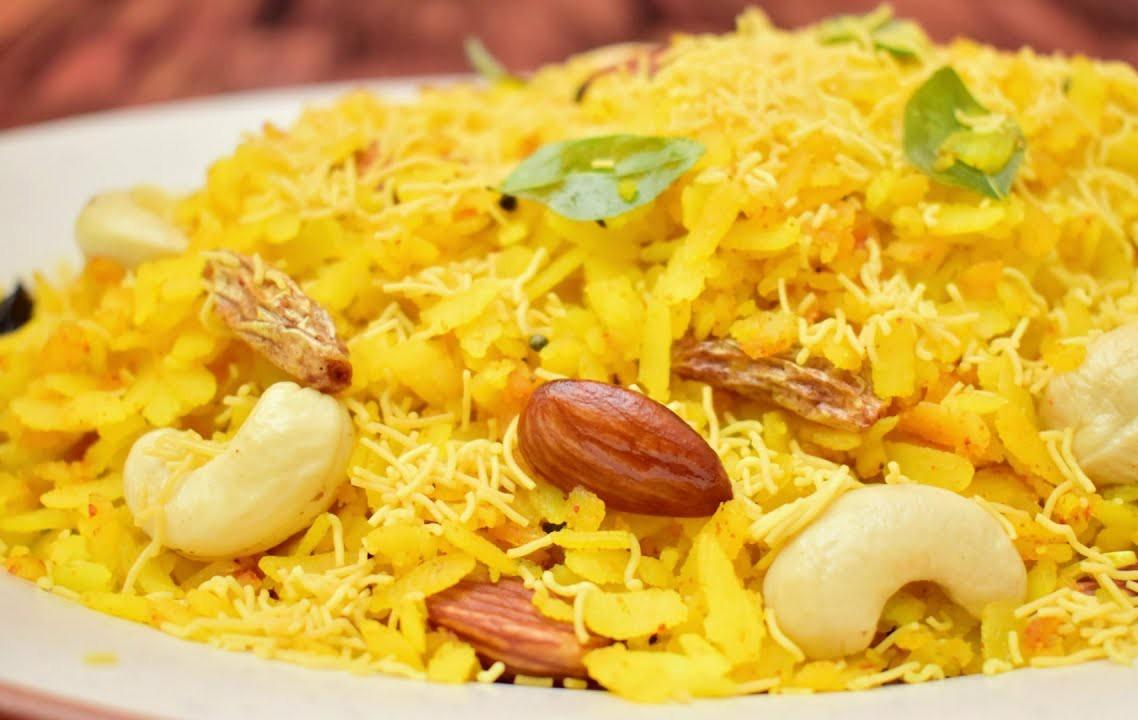Poha: (0, 0, 1138, 701)
